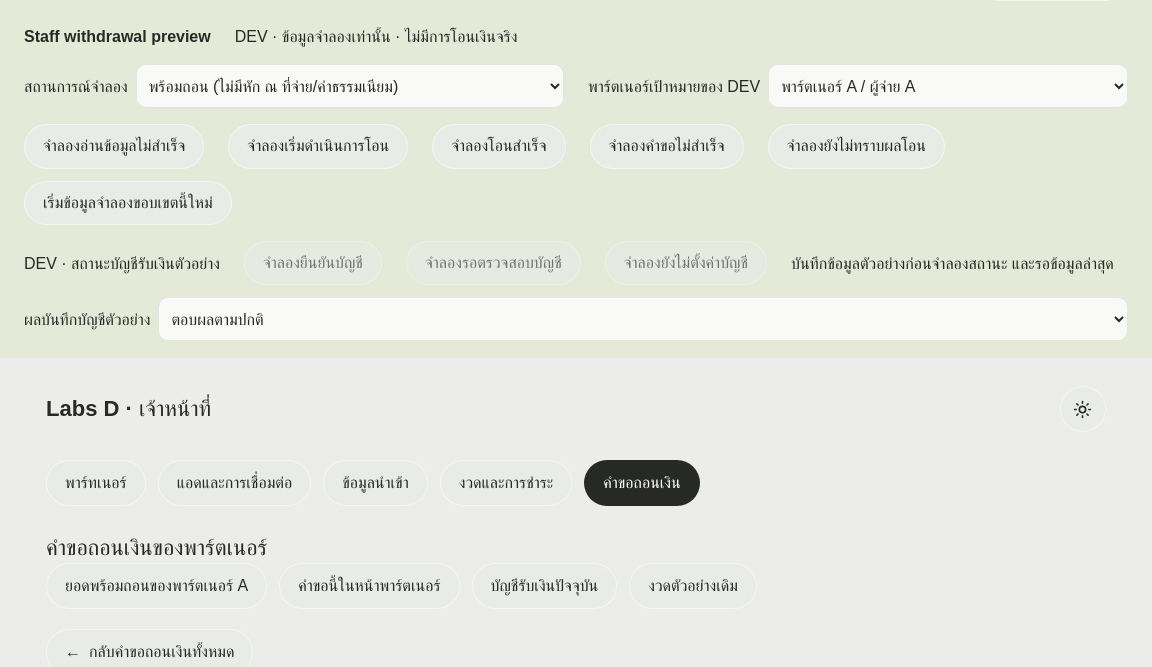
Test: WU03 real-runtime staff composition › reset fences an in-flight outcome and clears its stale busy/result notice
Click the button "จำลองโอนสำเร็จ": (499, 146) [432,124,566,169]
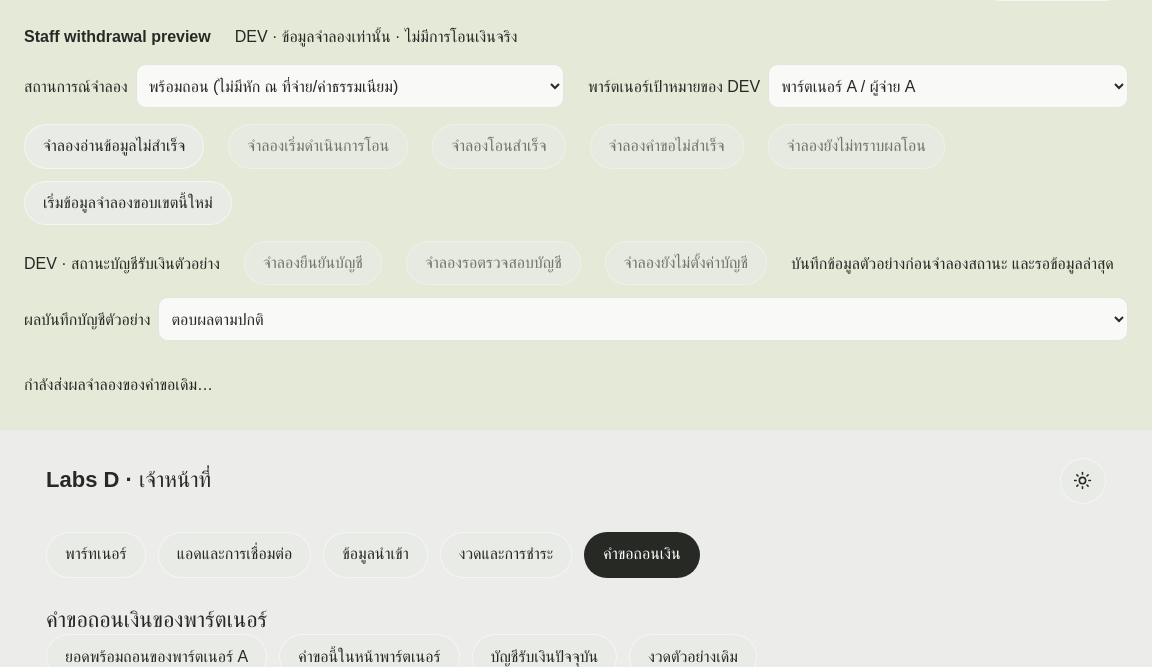
Click the button "เริ่มข้อมูลจำลองขอบเขตนี้ใหม่": (128, 203) [24,181,232,225]
(page scrolled)
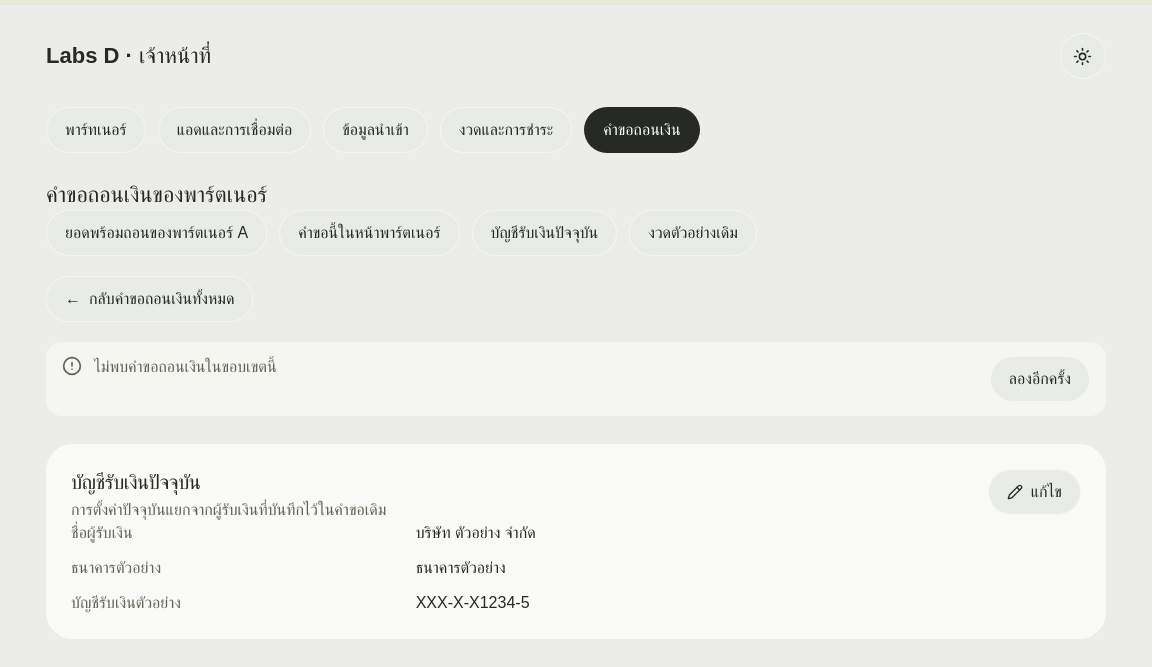
Expected: the text "กำลังส่งผลจำลองของคำขอเดิม…" is gone
Expected: the text "ไม่พบคำขอถอนเงินในขอบเขตนี้" is shown, [94,358,277,375]
